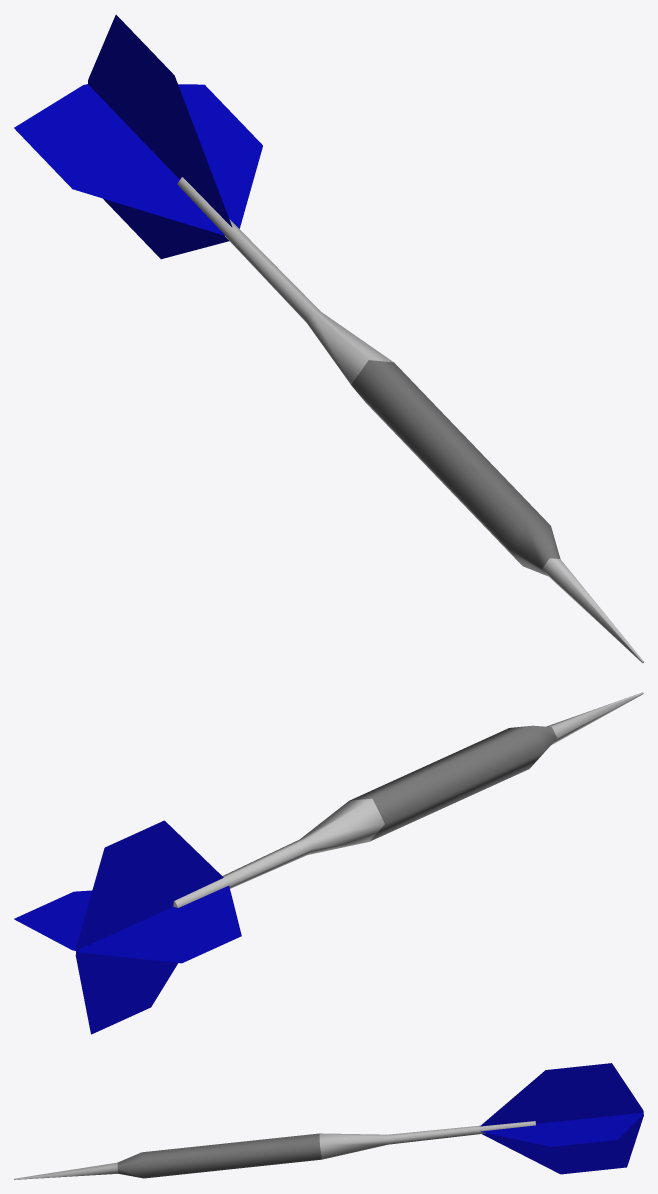
Rendered from Bluedart.fbx.
3 views of the same model, one above another, from view 1: azimuth 30°, elevation 25°; view 2: azimuth 150°, elevation 25°; view 3: azimuth 270°, elevation 25° (orthographic). The views are drawn at different scales.
Visible parts, largest first — view 1: Dart_Blue003; view 2: Dart_Blue003; view 3: Dart_Blue003.
Boxes of the visible parts, left/top/right/bottom form: Dart_Blue003: left=14, top=14, right=643, bottom=663; Dart_Blue003: left=14, top=692, right=643, bottom=1034; Dart_Blue003: left=14, top=1063, right=643, bottom=1179.
Size of the model in its own units: 5.01 by 5.85 by 26.77.
